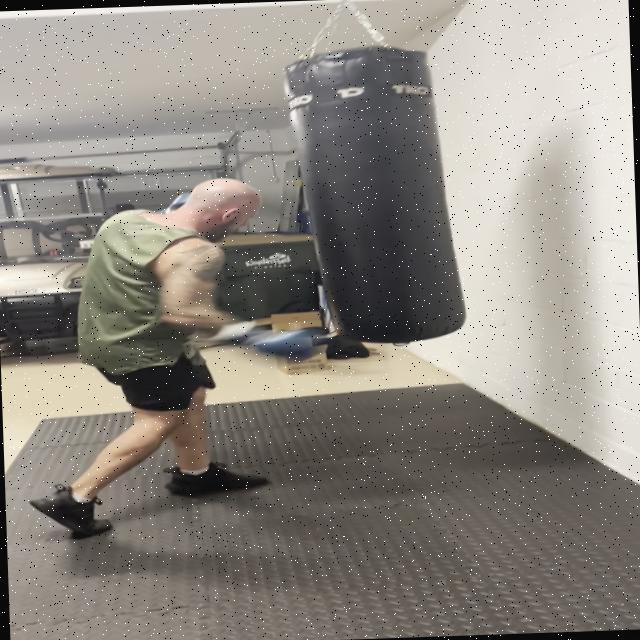bag: (278, 43, 474, 344)
uppercut: (82, 158, 339, 381)
